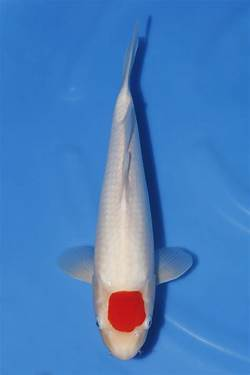sun: (57, 21, 194, 361)
